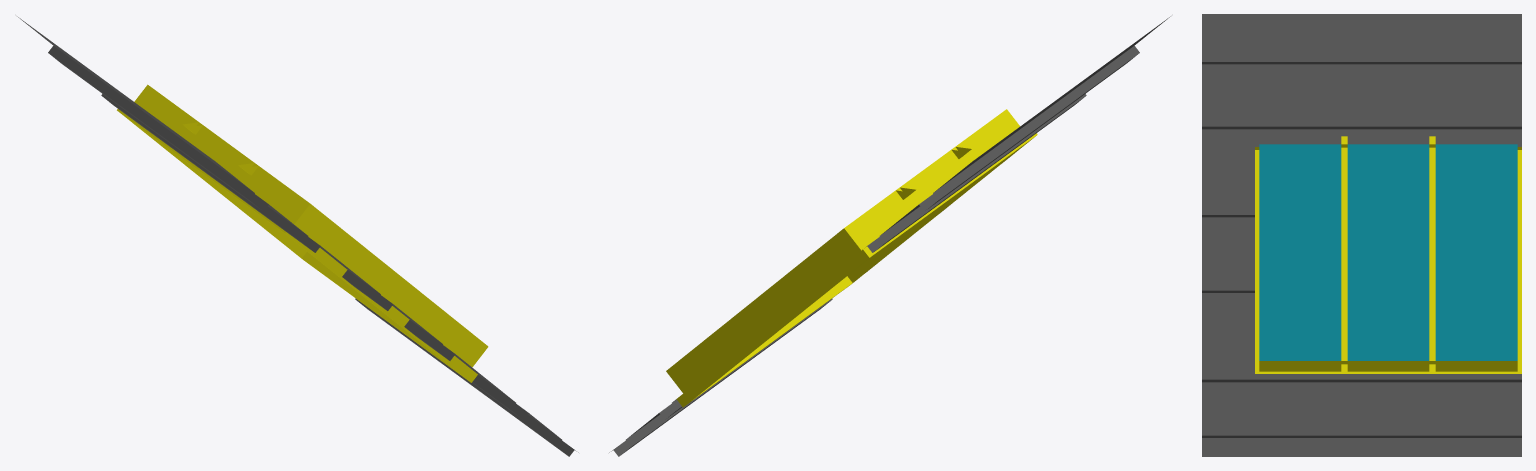
File: takfönster_2.fbx
3 views of the same model, side by side, from view 1: azimuth 30°, elevation 25°; view 2: azimuth 150°, elevation 25°; view 3: azimuth 270°, elevation 25° (orthographic). The views are drawn at different scales.
Parts seen in each view (by area): view 1: polySurface12; view 2: polySurface12; view 3: polySurface12.
Boxes of the visible parts, box(x1,y1,x2,y2) form: polySurface12: box(17, 16, 578, 456); polySurface12: box(609, 16, 1170, 456); polySurface12: box(1202, 14, 1521, 456).
Bounding box in the file's own units: 2.09 × 2.09 × 2.
